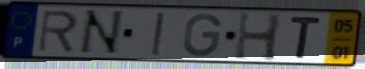G: (181, 12, 224, 59)
H: (232, 10, 284, 64)
I: (149, 10, 166, 58)
N: (75, 9, 126, 56)
R: (36, 9, 81, 54)
T: (288, 14, 324, 61)
